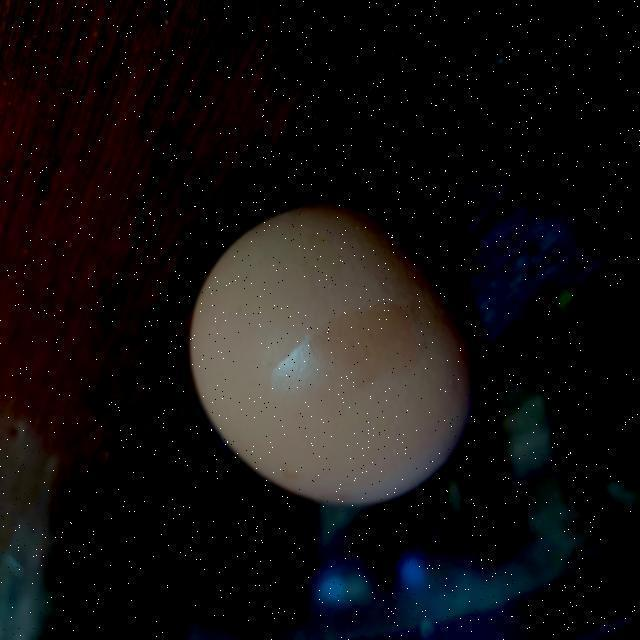egg: (182, 192, 489, 512)
